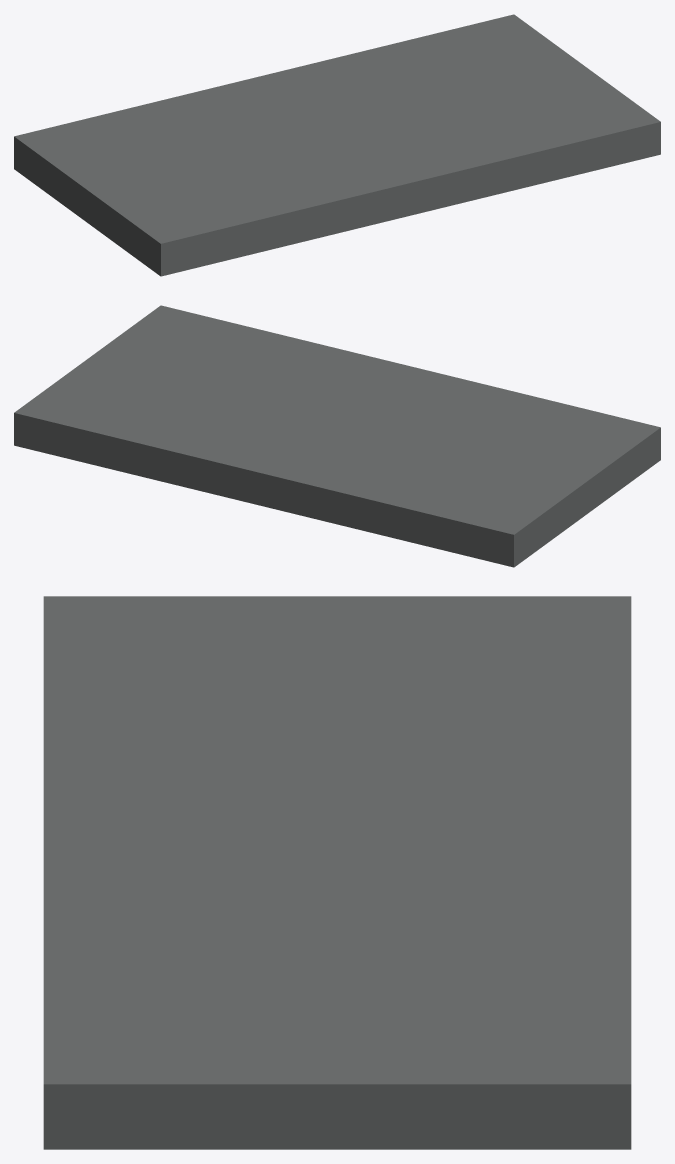
Rendered from ExteriorLight.fbx.
3 views of the same model, one above another, from view 1: azimuth 30°, elevation 25°; view 2: azimuth 150°, elevation 25°; view 3: azimuth 270°, elevation 25° (orthographic). The views are drawn at different scales.
Parts seen in each view (by area): view 1: pCube145; view 2: pCube145; view 3: pCube145.
Part boxes in pixels (bbox=[...]): pCube145: bbox=[14, 14, 660, 276]; pCube145: bbox=[14, 305, 660, 567]; pCube145: bbox=[43, 596, 631, 1149].
Bounding box in the file's own units: 2.37 × 0.1485 × 1.21.
